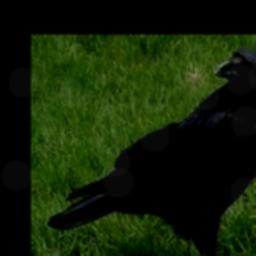Crow: (47, 48, 256, 256)
